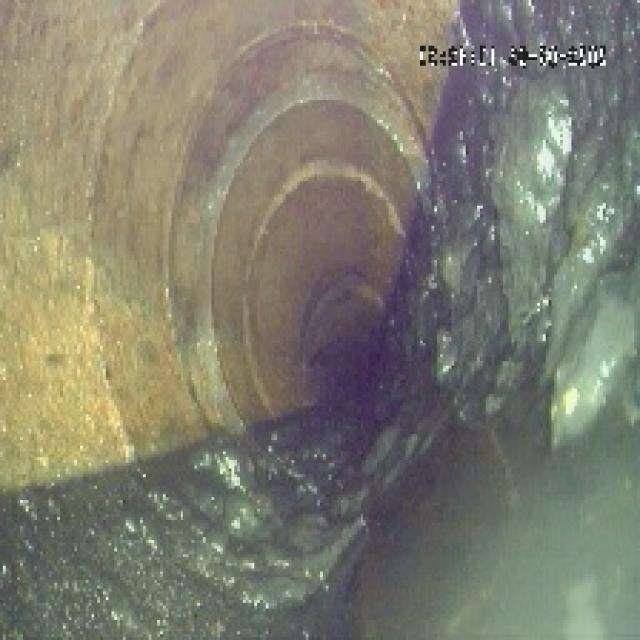sluge accumulation: (95, 114, 614, 632)
